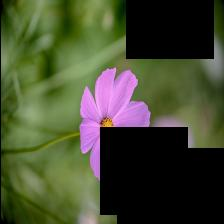purple: (78, 69, 149, 192)
